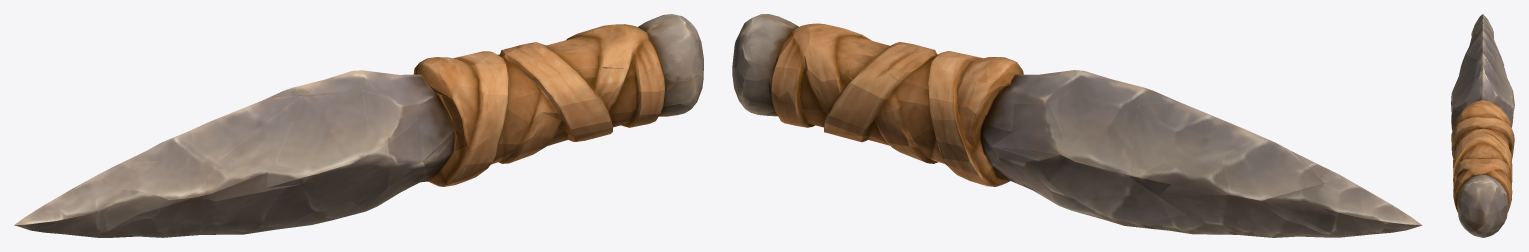
File: saebom-stone-dagger.glb
3 renders of one model, left to right at view 1: azimuth 30°, elevation 25°; view 2: azimuth 150°, elevation 25°; view 3: azimuth 270°, elevation 25°, orthographic. The views are drawn at different scales.
Parts seen in each view (by area): view 1: output_unwrapped; view 2: output_unwrapped; view 3: output_unwrapped.
Boxes of the visible parts, bbox=[...] form: output_unwrapped: bbox=[14, 14, 703, 237]; output_unwrapped: bbox=[732, 14, 1422, 237]; output_unwrapped: bbox=[1451, 14, 1514, 237].
Size of the model in its own units: 1.9 by 0.3838 by 0.255.
1 material, 1 textured.
